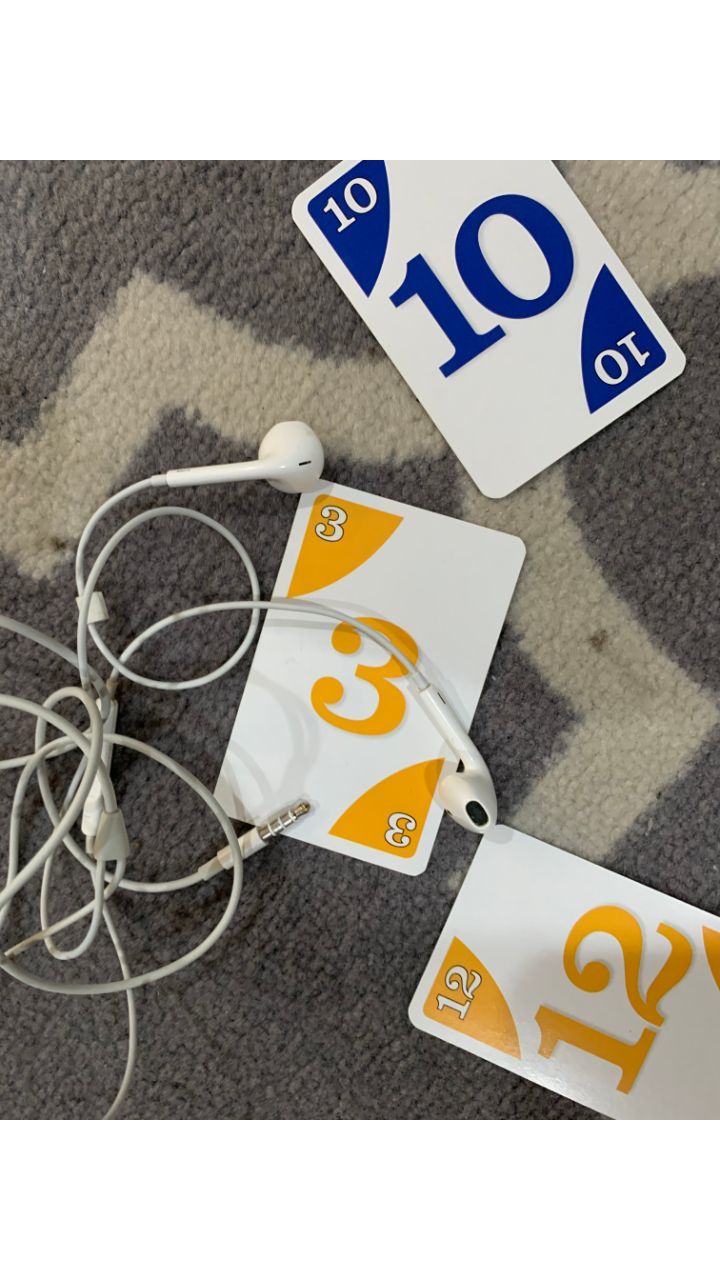ten: (292, 156, 691, 499)
three: (210, 476, 526, 880)
